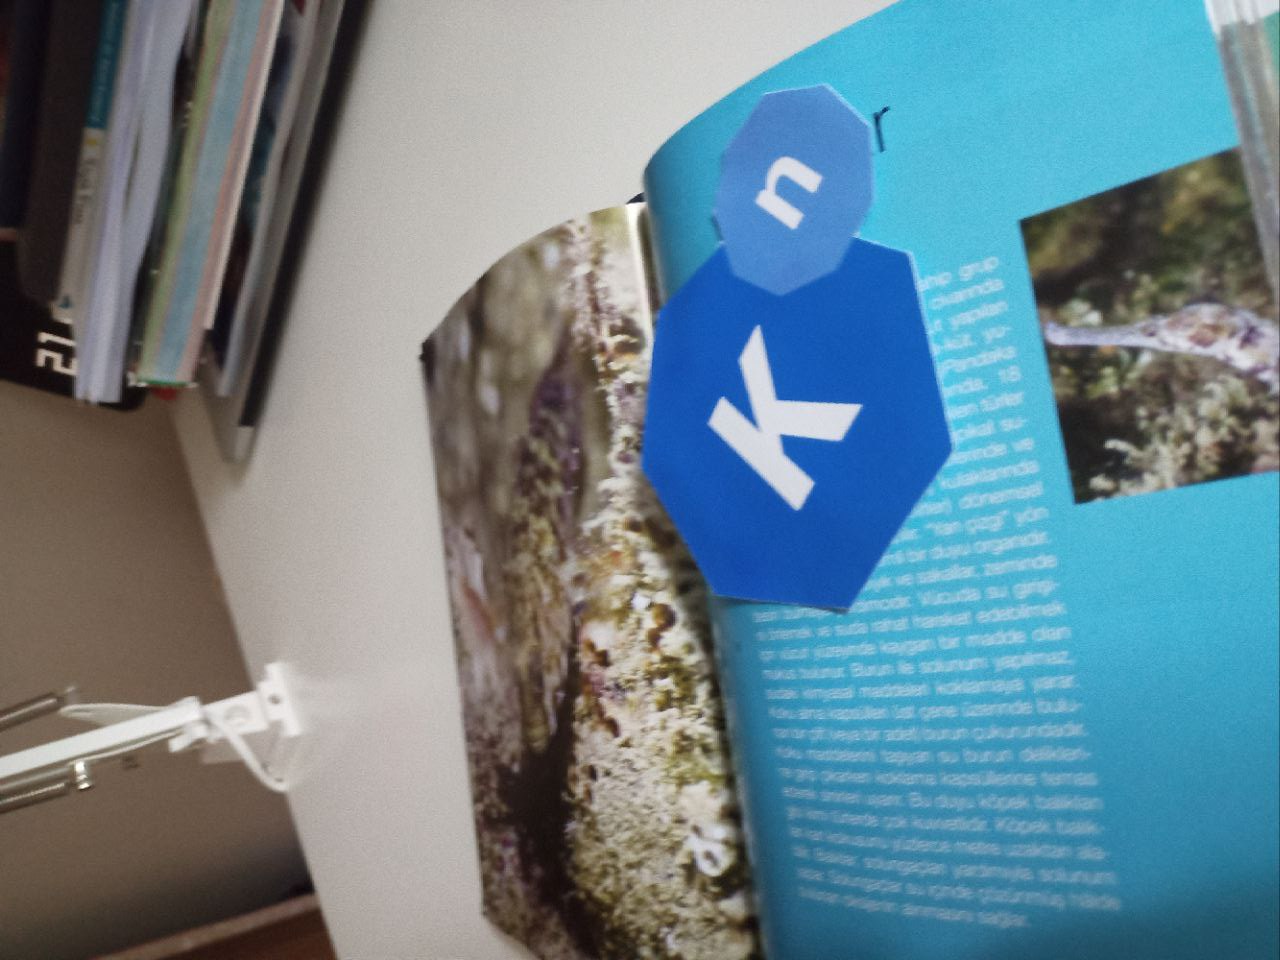knative: (640, 83, 954, 617)
